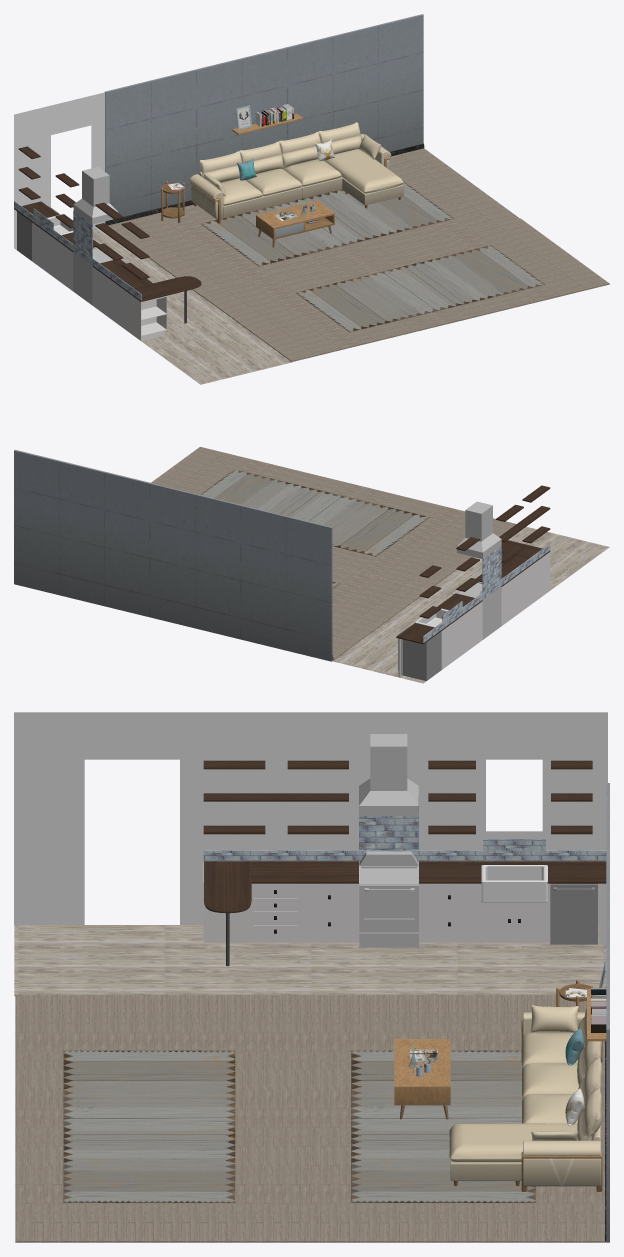
Rendered from house-scene-min.glb.
The picture shows the model from 3 angles, top to bottom: view 1: azimuth 30°, elevation 25°; view 2: azimuth 150°, elevation 25°; view 3: azimuth 270°, elevation 25°; orthographic projection. The views are drawn at different scales.
Parts seen in each view (by area): view 1: sofa_6, sofa_6.001, sofa_4, Flooring-material, sofa_2, Wall-material, Cabinets_001-material, Oven_placeholder-material.001, Oven_placeholder-material, Tiles-material, Countertop-material.002, Cabinets-material.003 (+8 smaller); view 2: sofa_6, sofa_6.001, Flooring-material, Oven_placeholder-material.001, Dishwasher_placeholder-material, Oven_placeholder-material, Tiles-material, Countertop-material.001, Cabinets-material.003, Cabinets-material.001, Tiles-material.001, Cabinets-material.002 (+5 smaller); view 3: sofa_6.001, Wall-material, sofa_6, Flooring-material, sofa_4, sofa_2, Oven_placeholder-material, Tiles-material, Oven_placeholder-material.001, Countertop-material.001, Dishwasher_placeholder-material, Ceramic-material (+16 smaller).
Part boxes in pixels (<box>): sofa_6: <box>105,14,519,296</box>; sofa_6.001: <box>202,218,609,361</box>; sofa_4: <box>168,122,403,223</box>; Flooring-material: <box>14,228,292,384</box>; sofa_2: <box>106,113,424,247</box>; Wall-material: <box>14,92,105,247</box>; Cabinets_001-material: <box>126,291,166,340</box>; Oven_placeholder-material.001: <box>73,167,118,224</box>; Oven_placeholder-material: <box>73,247,121,304</box>; Tiles-material: <box>14,201,141,300</box>; Countertop-material.002: <box>126,276,201,301</box>; Cabinets-material.003: <box>32,222,54,273</box>; sofa_6: <box>14,449,426,661</box>; sofa_6.001: <box>151,447,516,589</box>; Flooring-material: <box>332,526,609,683</box>; Oven_placeholder-material.001: <box>457,501,501,558</box>; Dishwasher_placeholder-material: <box>397,625,441,681</box>; Oven_placeholder-material: <box>452,582,501,639</box>; Tiles-material: <box>423,543,550,643</box>; Countertop-material.001: <box>396,593,482,644</box>; Cabinets-material.003: <box>441,615,463,665</box>; Cabinets-material.001: <box>501,574,520,621</box>; Tiles-material.001: <box>482,546,501,592</box>; Cabinets-material.002: <box>464,601,482,649</box>; sofa_6.001: <box>15,994,300,1242</box>; Wall-material: <box>14,712,607,924</box>; sofa_6: <box>300,783,609,1242</box>; Flooring-material: <box>14,925,606,996</box>; sofa_4: <box>410,988,602,1162</box>; sofa_2: <box>394,979,606,1241</box>; Oven_placeholder-material: <box>359,851,418,947</box>; Tiles-material: <box>203,850,606,861</box>; Oven_placeholder-material.001: <box>359,734,418,816</box>; Countertop-material.001: <box>419,861,606,883</box>; Dishwasher_placeholder-material: <box>550,883,597,944</box>; Ceramic-material: <box>481,865,547,902</box>.
Size of the model in its own units: 9.6 by 3 by 7.61.
Materials: 19 (9 with a texture image).
